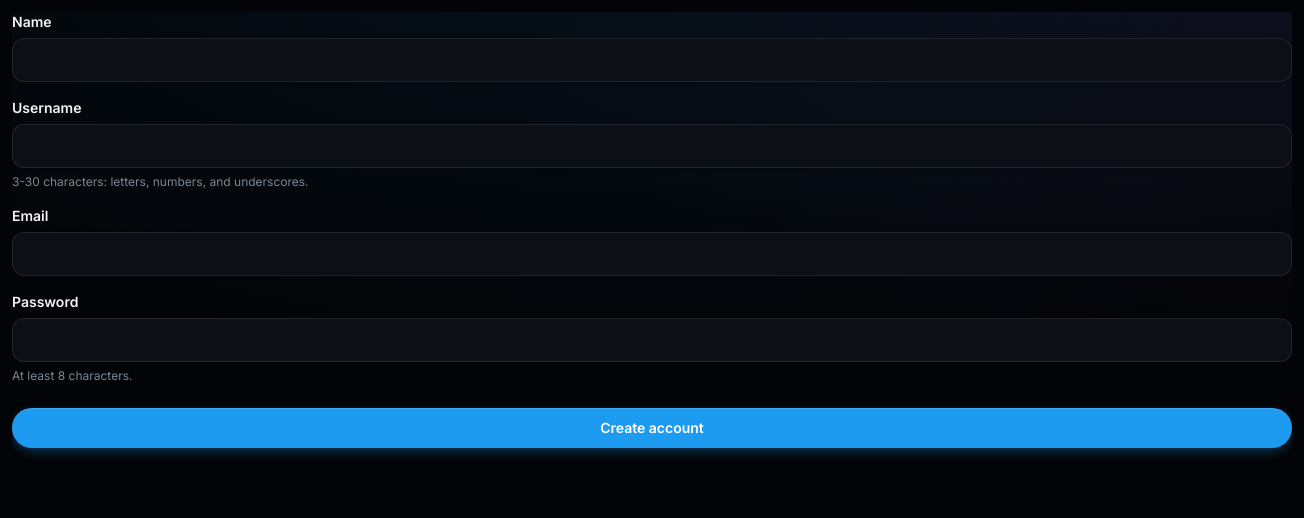
Test: RegisterForm › rejects an invalid username without a round trip
The image size is (1304, 518).
Type "a" into the field labelled "Username". click: (652, 146)
box: [12,124,1292,168]
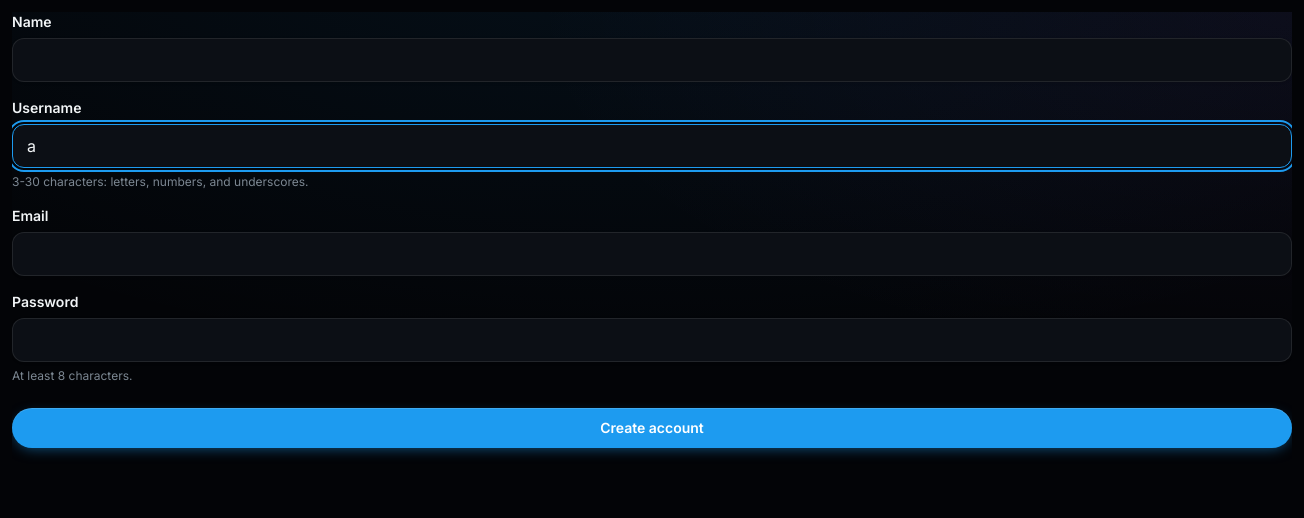
Click the button "Create account". click: (652, 428)
box: [12,408,1292,448]
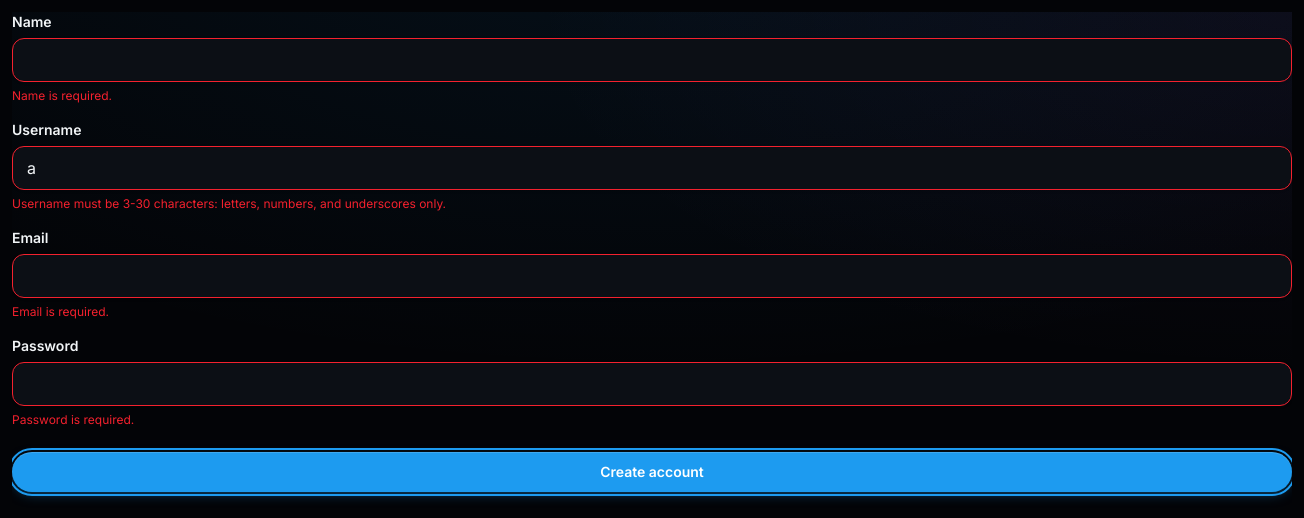
Result: the text "Username must be 3-30 characters: letters, numbers, and underscores only." is shown at [12,196,446,211]
